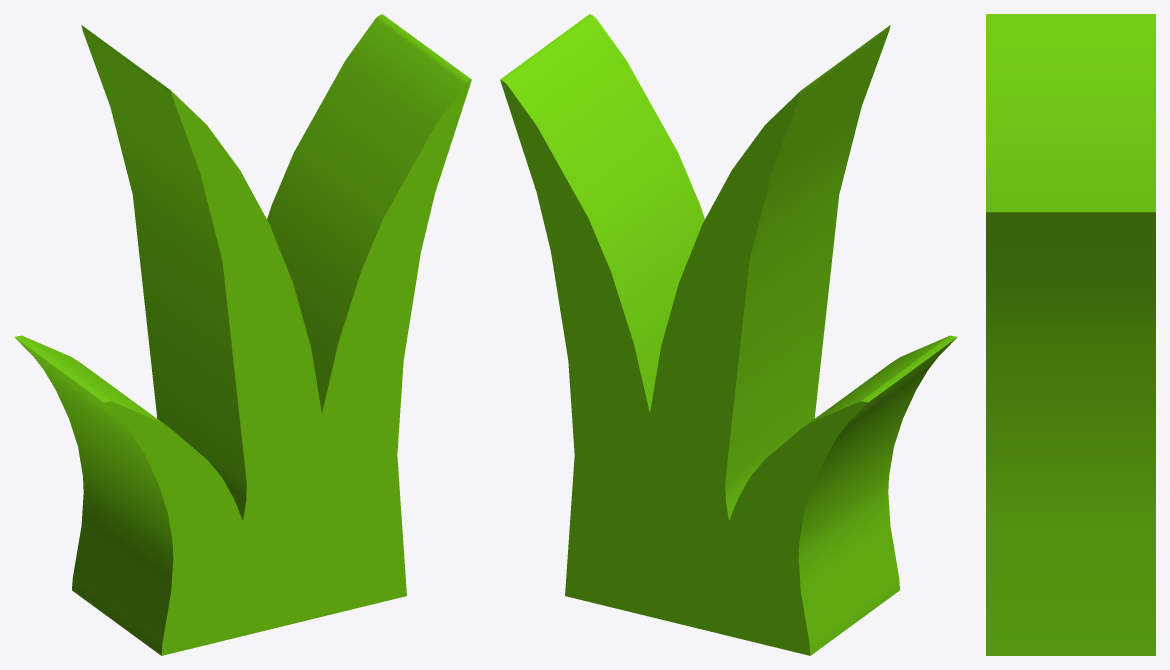
3 renders of one model, left to right at view 1: azimuth 30°, elevation 25°; view 2: azimuth 150°, elevation 25°; view 3: azimuth 270°, elevation 25°, orthographic. The views are drawn at different scales.
Visible parts, largest first — view 1: Curve.003_Material.001_0; view 2: Curve.003_Material.001_0; view 3: Curve.003_Material.001_0.
Boxes of the visible parts, box(x1,y1,x2,y2) form: Curve.003_Material.001_0: box(14, 14, 471, 655); Curve.003_Material.001_0: box(500, 14, 957, 655); Curve.003_Material.001_0: box(986, 14, 1155, 655).
Bounding box in the file's own units: 0.4358 × 0.6368 × 0.1838.
